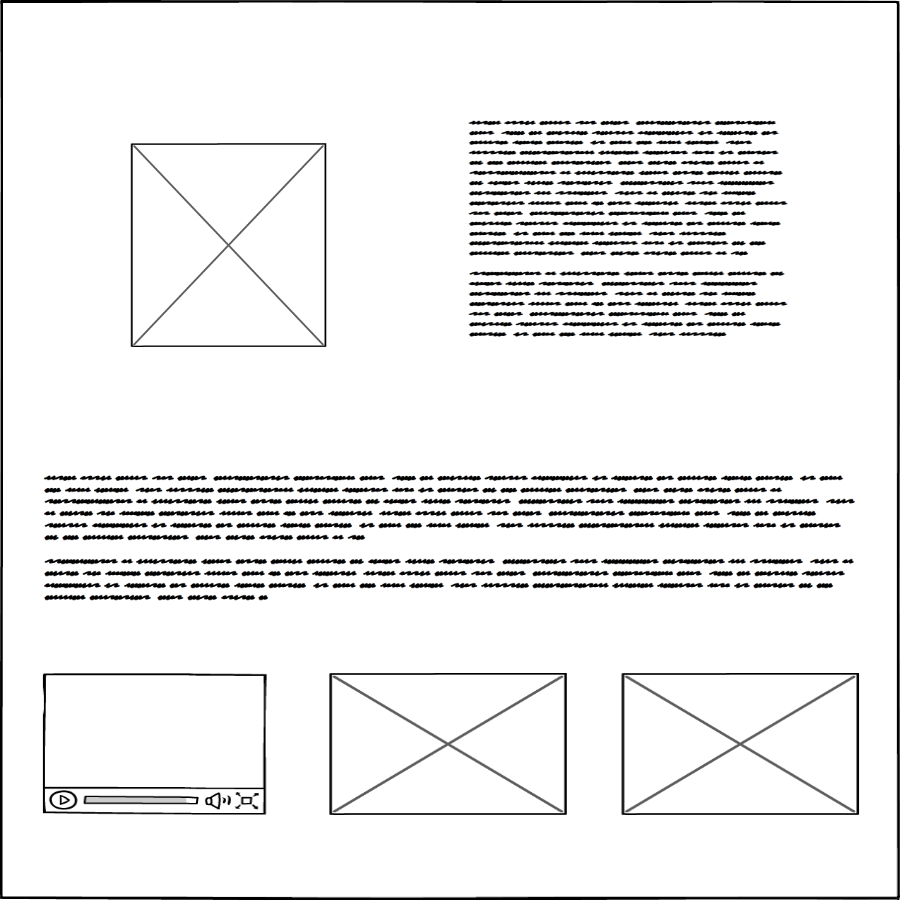image: (123, 140, 335, 348), (619, 670, 865, 819), (326, 667, 568, 817)
p: (38, 462, 868, 604), (463, 112, 801, 345)
video: (41, 669, 268, 819)
